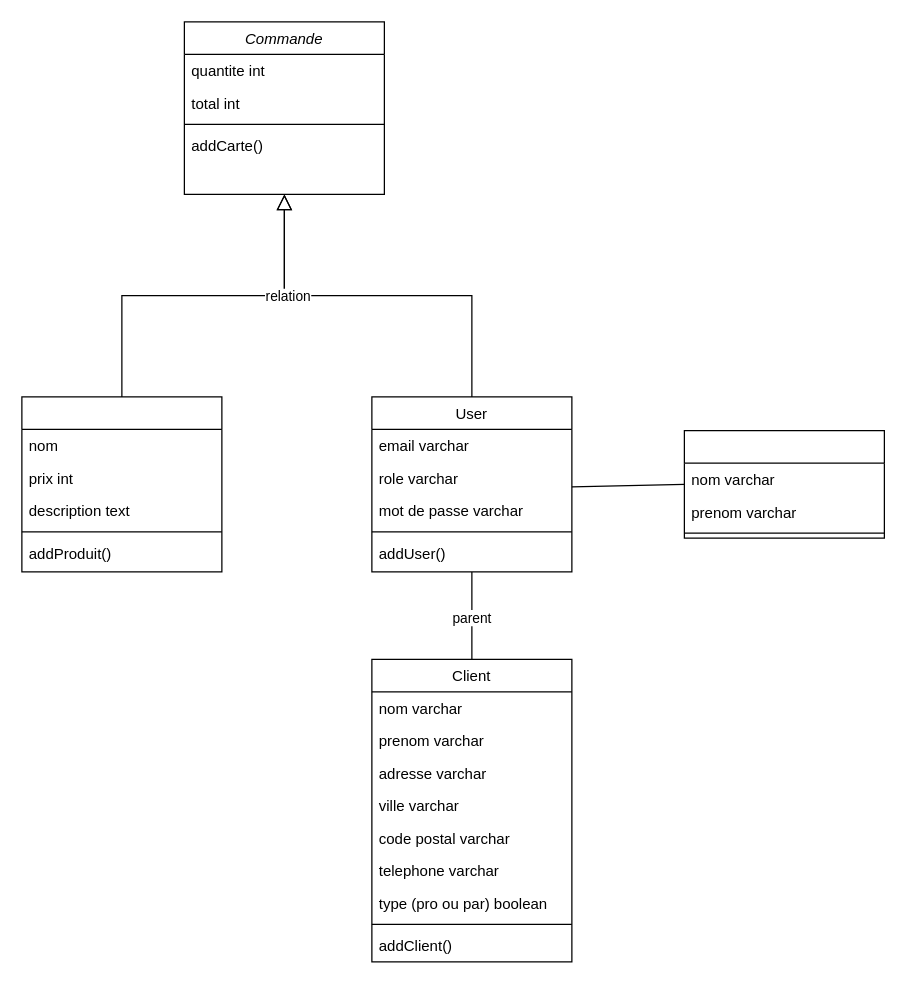
Image size: 906x988. Some labels were removed from this diagram. The box of each missing label's shape, as (x1, y1, x2, y2) in pixels:
Employé: (683, 429, 884, 538)
Produits: (21, 396, 222, 572)
